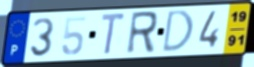3: (28, 17, 56, 58)
4: (197, 9, 222, 50)
5: (60, 14, 88, 57)
D: (160, 8, 196, 55)
R: (124, 10, 159, 57)
T: (99, 11, 128, 58)
